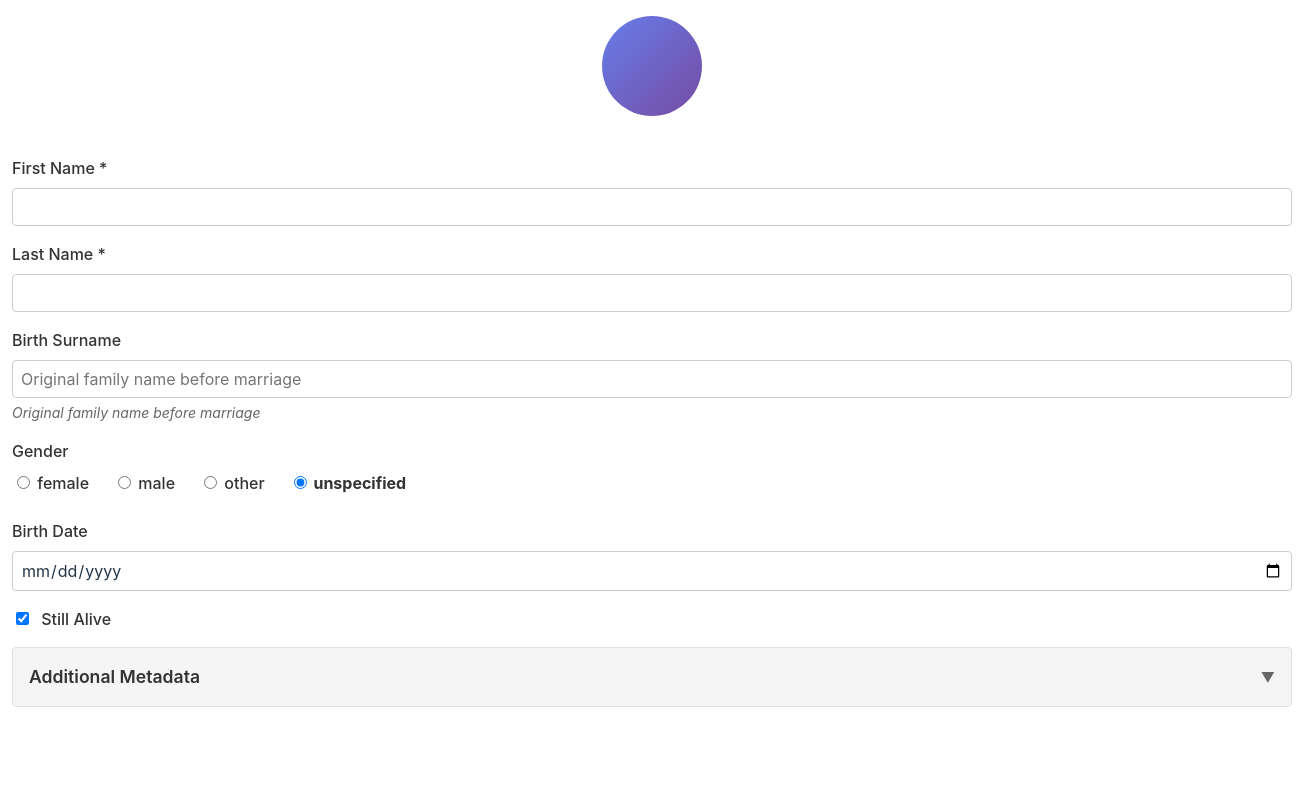
PersonFormFields - Photo Preview Integration › Additional Metadata Collapsible Section › AC3: Section toggle functionality › should collapse section when clicking expanded header
Expand first
What coordinates should you click on to do the following:
click the button with class "section-header"
I would click on:
 (115, 676)
Its box is [12,647,1292,707].
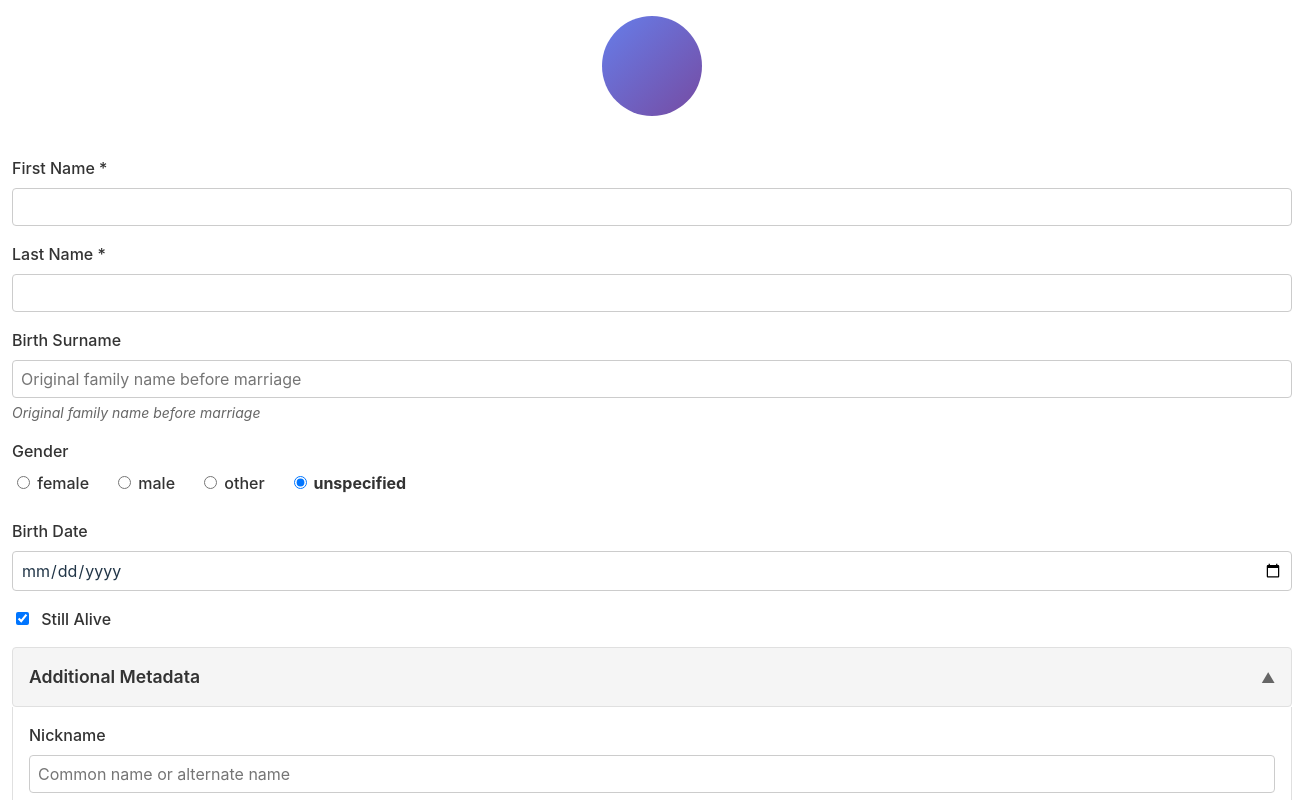
Check: the button with class "section-header" is expanded
Click again to collapse
What coordinates should you click on to do the following:
click the button with class "section-header"
I would click on:
 (115, 676)
Its box is [12,647,1292,707].
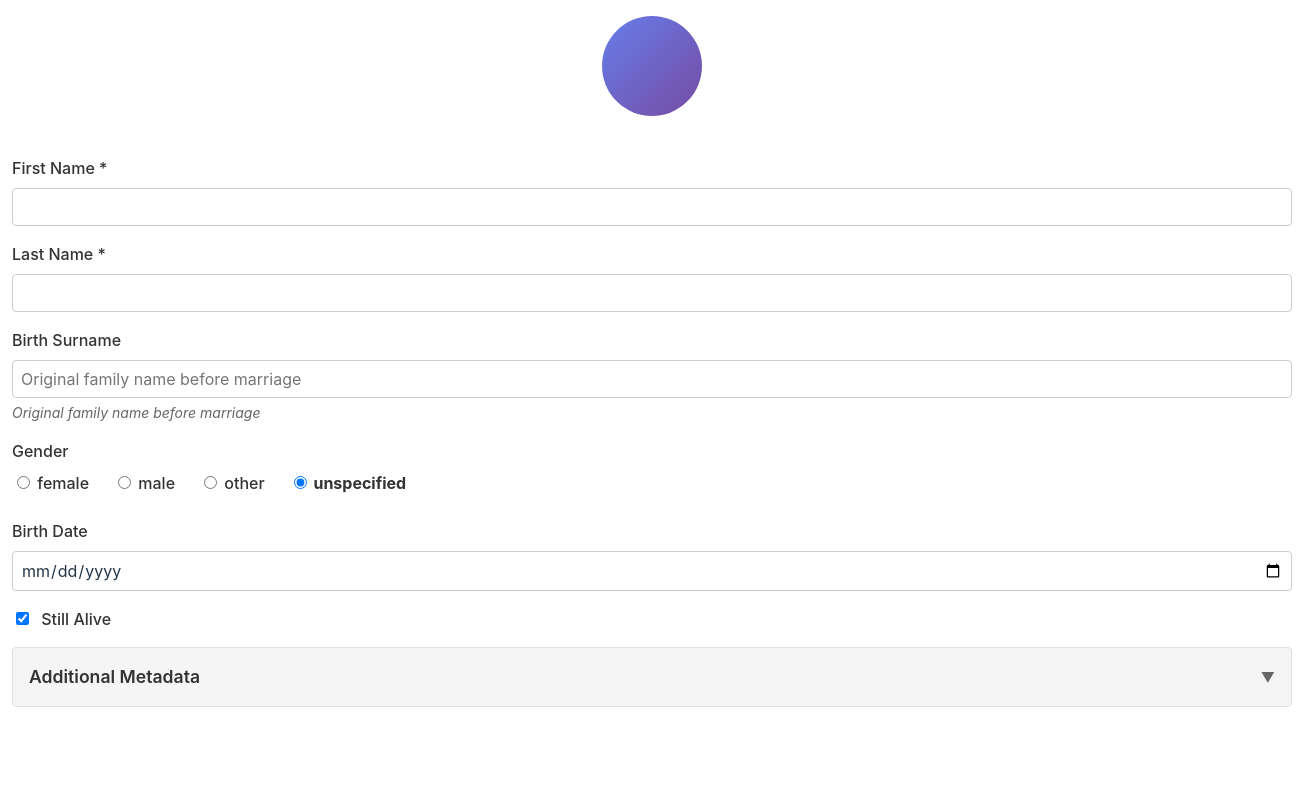
Check: the button with class "section-header" is collapsed, box [12,647,1292,707]
